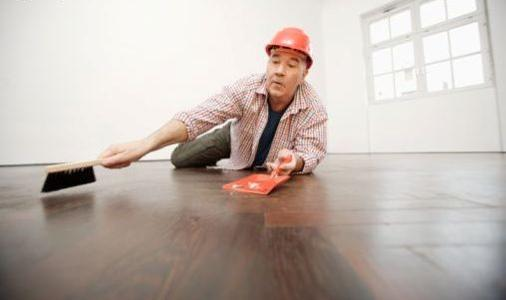person: (98, 26, 330, 174)
